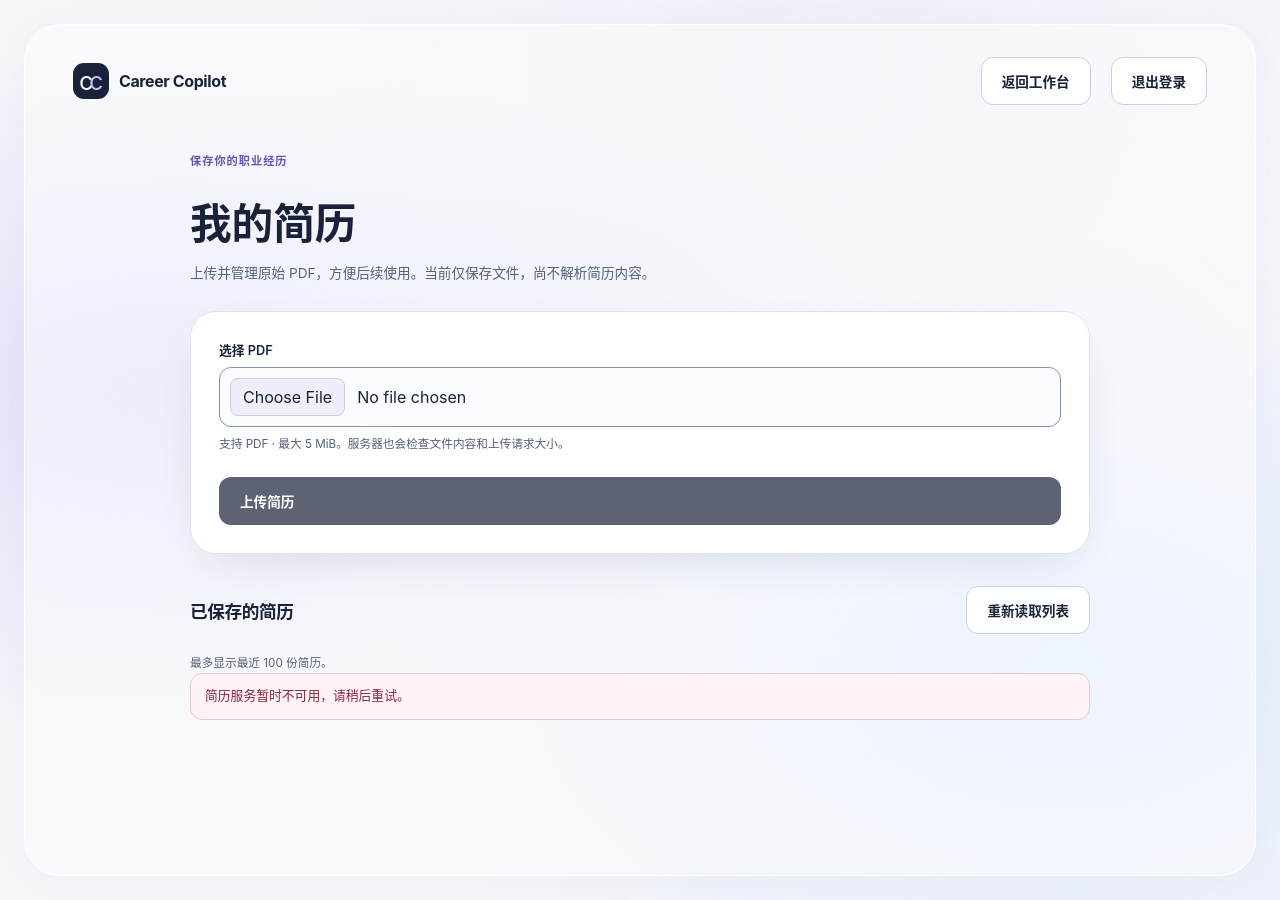
Test case: empty state, load failure, GET-only retry and legacy rendering
This screenshot has width=1280, height=900.
expect the text "简历服务暂时不可用，请稍后重试。" is shown: met, box [190,673,1090,720]
Click the button "重新读取列表": (1028, 610) [966,586,1090,634]
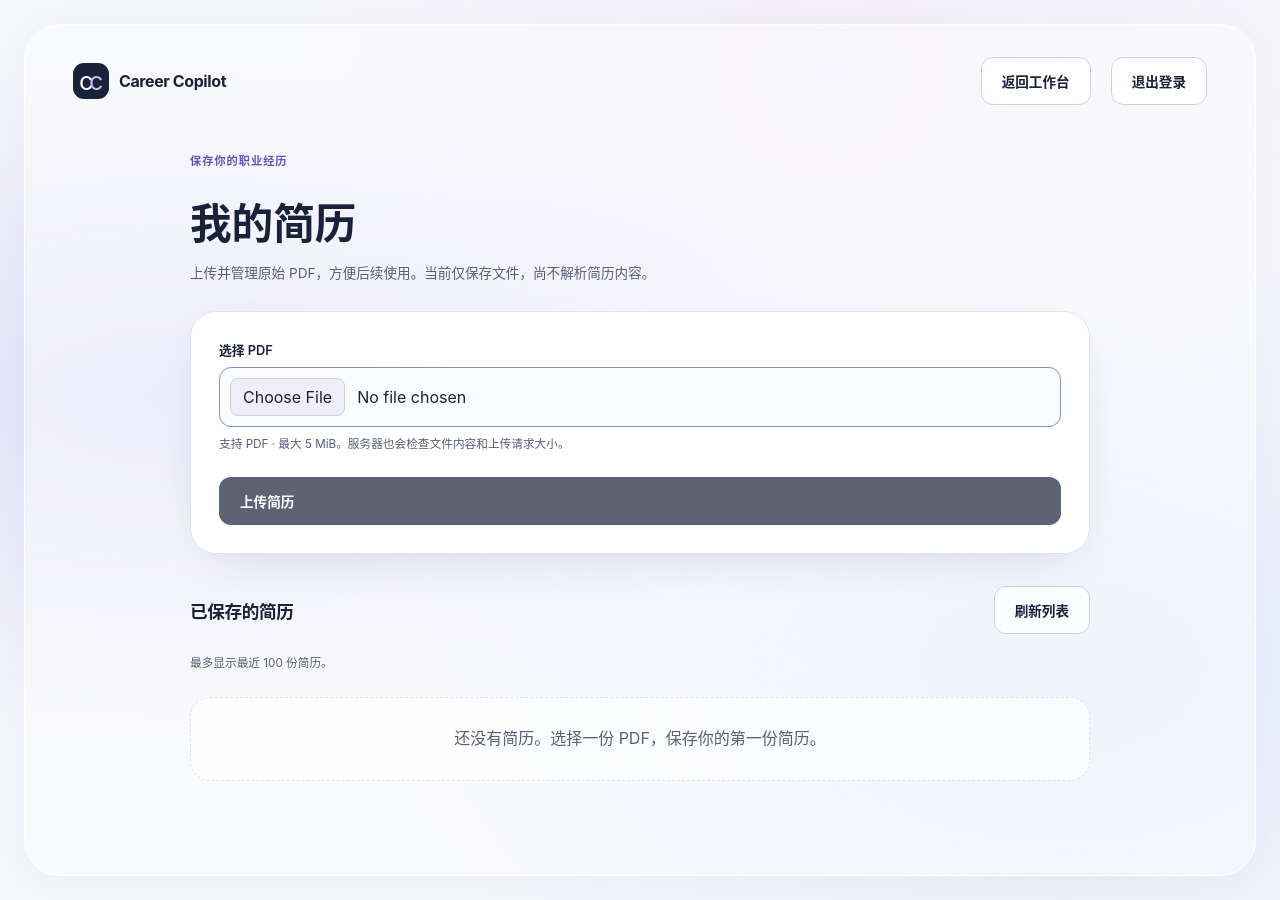
expect the text "还没有简历。选择一份 PDF，保存你的第一份简历。" is shown: met, box [190,697,1090,781]
Click the button "刷新列表": (1042, 610) [994,586,1090,634]
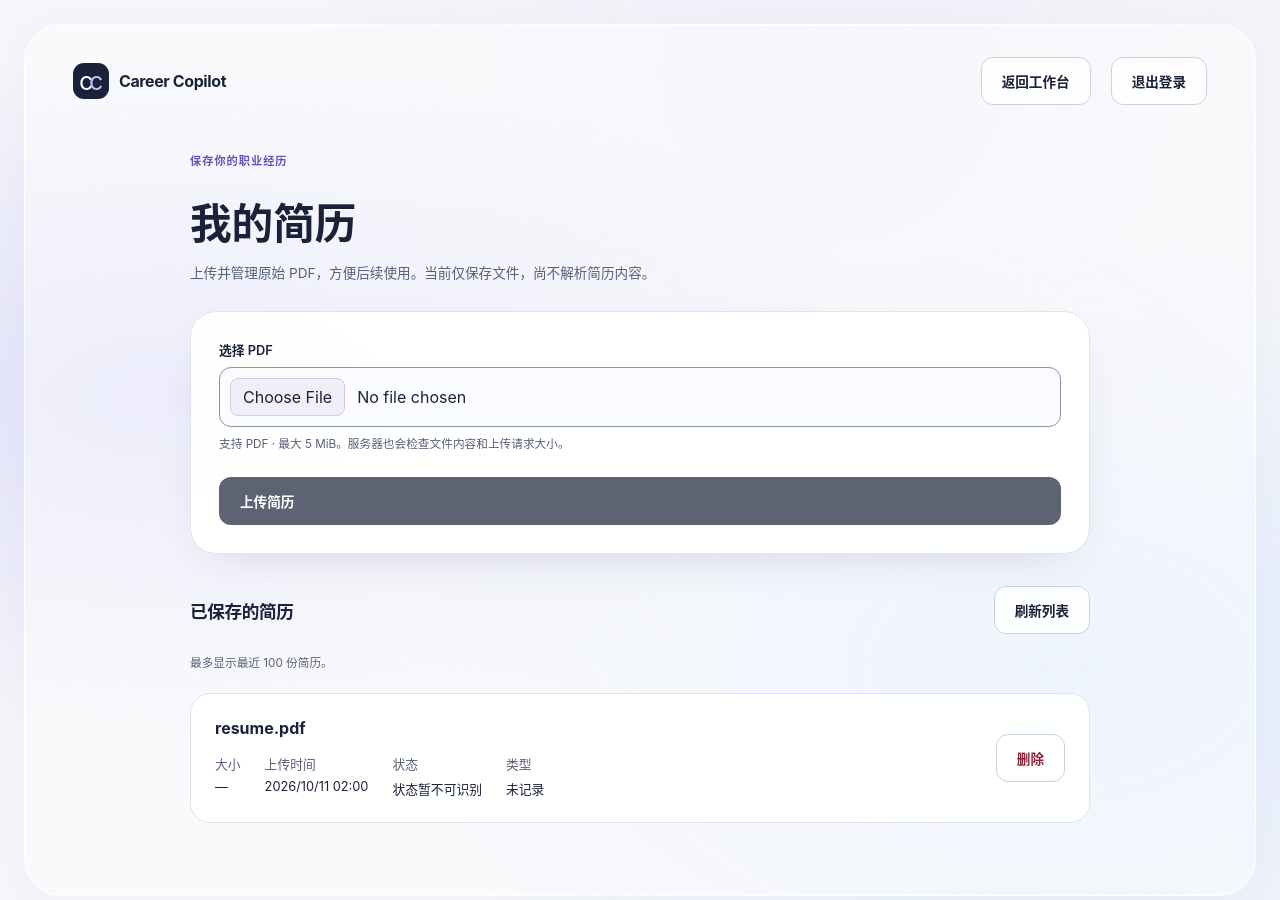
expect the text "状态暂不可识别" is shown: met, box [392,779,482,798]
expect the text "—" is shown: met, box [215,779,228,794]
expect the text "未记录" is shown: met, box [506,779,544,798]
